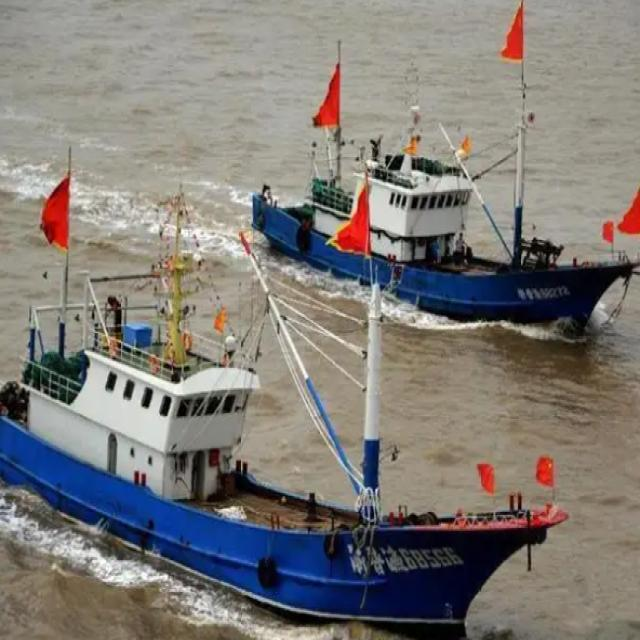fishing boat: (0, 235, 546, 632), (257, 40, 637, 317)
